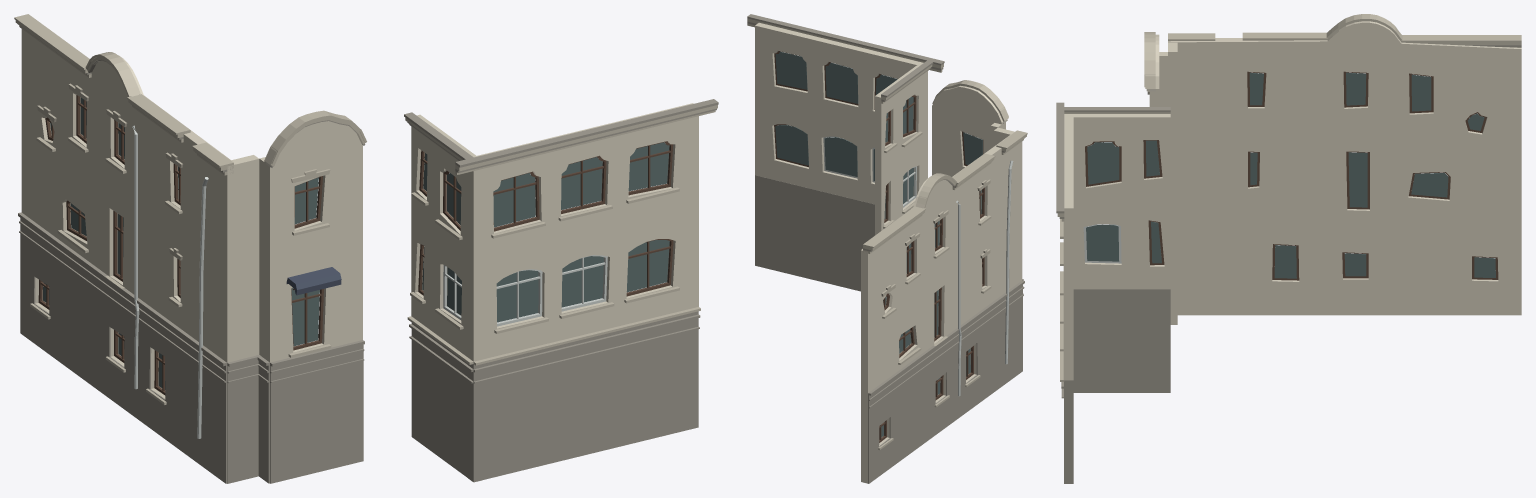
Rendered from lod-source.glb.
The picture shows the model from 3 angles, left to right: view 1: azimuth 30°, elevation 25°; view 2: azimuth 150°, elevation 25°; view 3: azimuth 270°, elevation 25°; orthographic projection. The views are drawn at different scales.
Visible parts, largest first — view 1: 愚园路1112弄4号蒋光鼐旧居; view 2: 愚园路1112弄4号蒋光鼐旧居; view 3: 愚园路1112弄4号蒋光鼐旧居.
Boxes of the visible parts, x1,y1,x2,y2 form: 愚园路1112弄4号蒋光鼐旧居: (14, 14, 718, 483); 愚园路1112弄4号蒋光鼐旧居: (747, 14, 1027, 483); 愚园路1112弄4号蒋光鼐旧居: (1056, 14, 1521, 483).
Size of the model in its own units: 16.43 by 12.91 by 17.72.
